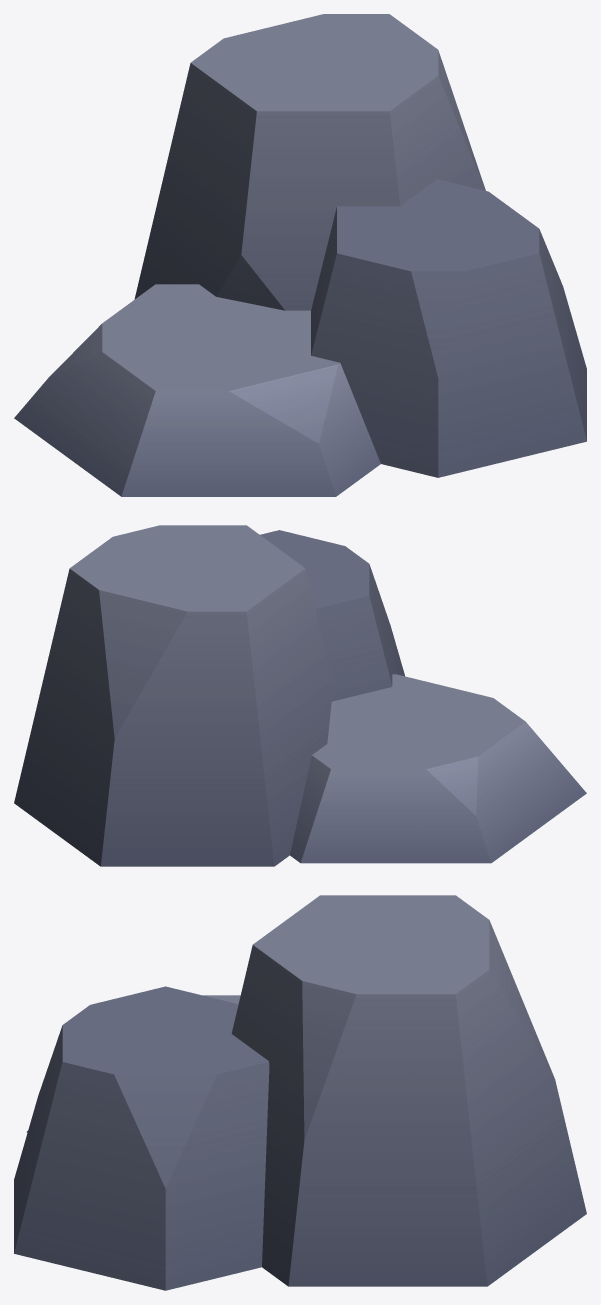
Rendered from rock.glb.
3 views of the same model, one above another, from view 1: azimuth 30°, elevation 25°; view 2: azimuth 150°, elevation 25°; view 3: azimuth 270°, elevation 25° (orthographic). The views are drawn at different scales.
Parts seen in each view (by area): view 1: rocks; view 2: rocks; view 3: rocks.
Boxes of the visible parts, x1,y1,x2,y2 form: rocks: (14,14,586,496); rocks: (14,525,586,866); rocks: (14,895,586,1290).
Bounding box in the file's own units: 1.45 × 0.7611 × 1.47.
1 material, 1 textured.
